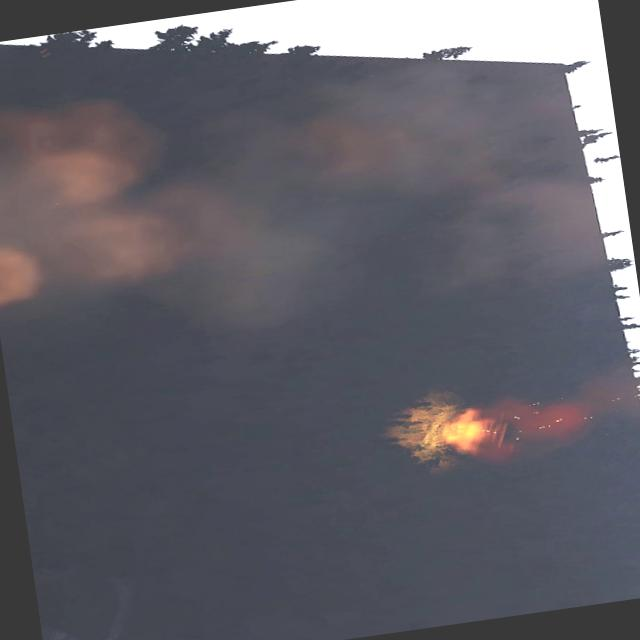fire: (438, 407, 496, 455)
smoke: (0, 29, 614, 366), (493, 363, 640, 457)
